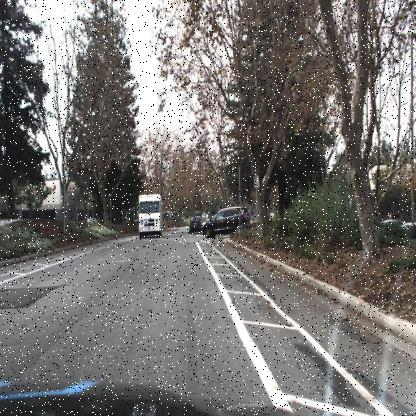car: (201, 206, 248, 238), (189, 214, 203, 234)
truck: (138, 194, 162, 240)
